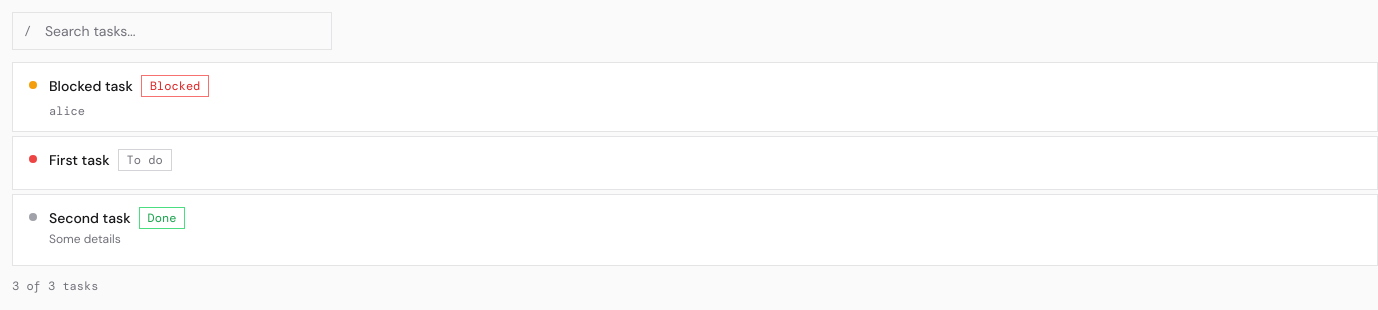
TaskList › filters tasks by search
Type "second" into the search field with placeholder "Search tasks...". click: (172, 31)
box: [12,12,332,50]
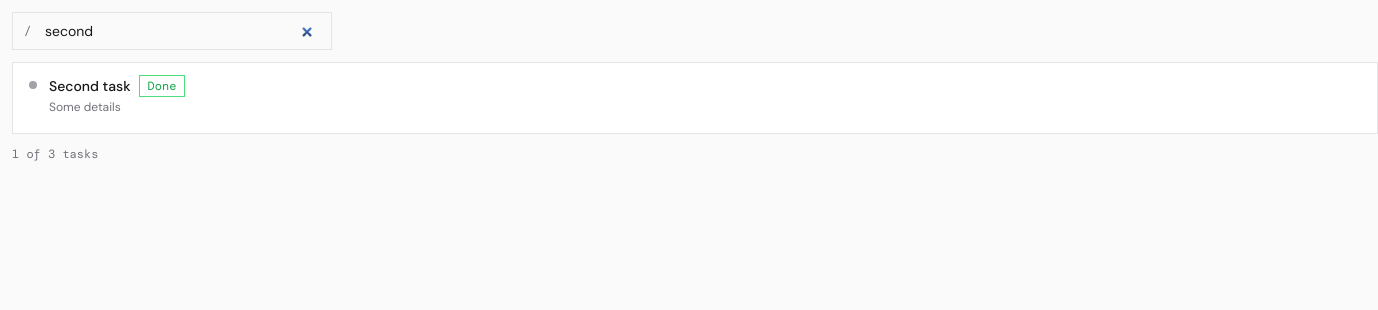
Expected: the link "Second task" is shown, [49,76,131,96]
Expected: the link "First task" is gone
